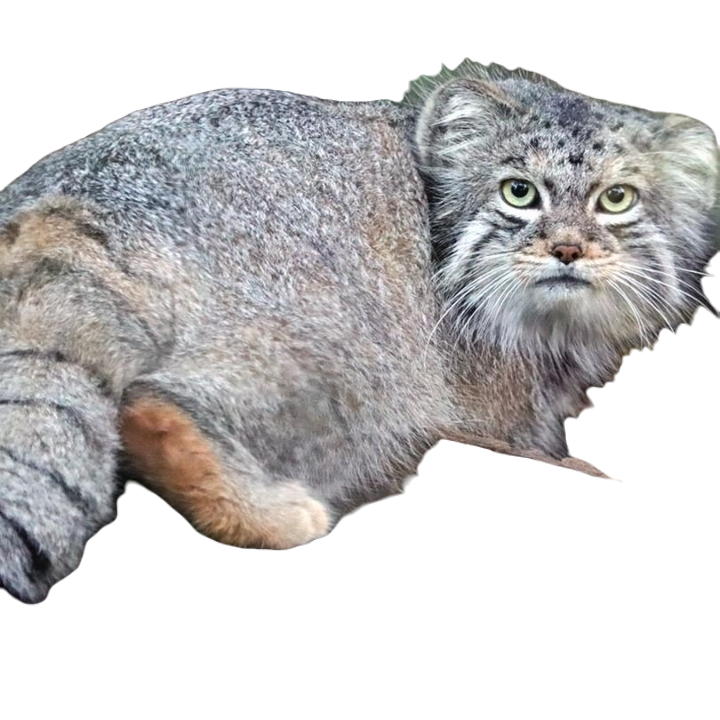Cat: (1, 56, 719, 602)
